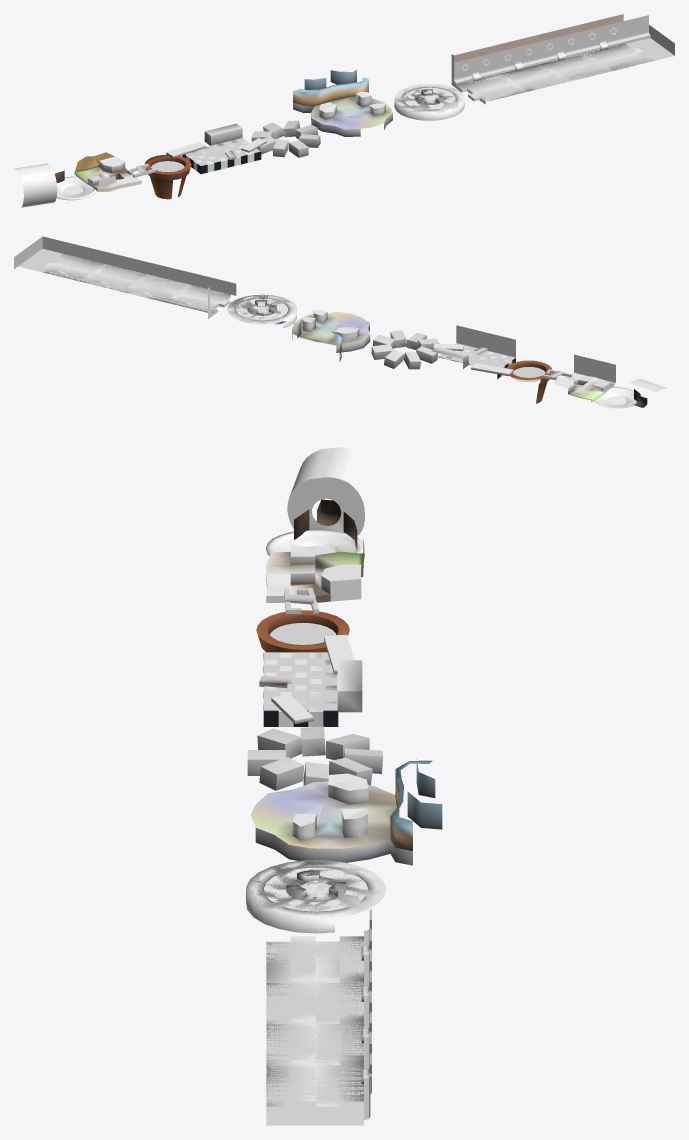
Rendered from map.glb.
3 views of the same model, one above another, from view 1: azimuth 30°, elevation 25°; view 2: azimuth 150°, elevation 25°; view 3: azimuth 270°, elevation 25° (orthographic). The views are drawn at different scales.
Parts seen in each view (by area): view 1: coll_plane, #0_voidGround, coll_Cube.001, #1_coll_PT0_Floor, #1_ToiletPaperRoll, #0_stoneFloor.003, #0_stoneFloor.002, #0_stoneFloor.001, coll_a, #0_stoneFloor, #3_coll_cardfloor, #1_coll_PT0_BDrop (+10 smaller); view 2: coll_plane, coll_a, coll_Cube.001, #1_coll_PT0_Floor, #0_voidGround, #0_stoneFloor.003, coll_voidGround.001, #0_stoneFloor, #0_stoneFloor.002, #0_stoneFloor.001, #3_coll_cardfloor, #2_coll_PT0_Hill0 (+5 smaller); view 3: coll_plane, #0_voidGround, #1_coll_PT0_Floor, coll_Cube.001, coll_a, #1_ToiletPaperRoll, coll_voidGround.001, #0_stoneFloor.003, #0_stoneFloor.002, #0_stoneFloor, #3_coll_cardfloor, #0_coll_PT0_Outer (+10 smaller).
Boxes of the visible parts, box(x1,y1,x2,y2) form: coll_plane: box(454, 15, 674, 101); #0_voidGround: box(394, 84, 464, 120); coll_Cube.001: box(251, 120, 320, 157); #1_coll_PT0_Floor: box(311, 96, 392, 129); #1_ToiletPaperRoll: box(14, 163, 57, 207); #0_stoneFloor.003: box(581, 14, 654, 70); #0_stoneFloor.002: box(538, 24, 612, 80); #0_stoneFloor.001: box(496, 35, 569, 91); coll_a: box(126, 138, 260, 177); #0_stoneFloor: box(454, 45, 527, 101); #3_coll_cardfloor: box(74, 152, 141, 191); #1_coll_PT0_BDrop: box(293, 78, 368, 105); coll_plane: box(14, 236, 236, 311); coll_a: box(438, 325, 615, 382); coll_Cube.001: box(371, 330, 439, 369); #1_coll_PT0_Floor: box(292, 311, 369, 345); #0_voidGround: box(227, 294, 296, 328); #0_stoneFloor.003: box(43, 253, 103, 282); coll_voidGround.001: box(227, 295, 296, 324); #0_stoneFloor: box(170, 284, 230, 313); #0_stoneFloor.002: box(86, 264, 145, 292); #0_stoneFloor.001: box(128, 274, 188, 303); #3_coll_cardfloor: box(568, 373, 614, 402); #2_coll_PT0_Hill0: box(301, 316, 359, 340); coll_plane: box(266, 928, 370, 1125); #0_voidGround: box(246, 860, 385, 933); #1_coll_PT0_Floor: box(250, 781, 399, 848); coll_Cube.001: box(247, 726, 383, 790); coll_a: box(264, 588, 337, 710); #1_ToiletPaperRoll: box(287, 447, 364, 535); coll_voidGround.001: box(247, 860, 385, 918); #0_stoneFloor.003: box(266, 1060, 363, 1106); #0_stoneFloor.002: box(266, 1019, 363, 1065); #0_stoneFloor: box(266, 936, 363, 982); #3_coll_cardfloor: box(266, 539, 364, 602); #0_coll_PT0_Outer: box(255, 828, 412, 865).
Bounding box in the file's own units: 121 × 9.39 × 16.16.
